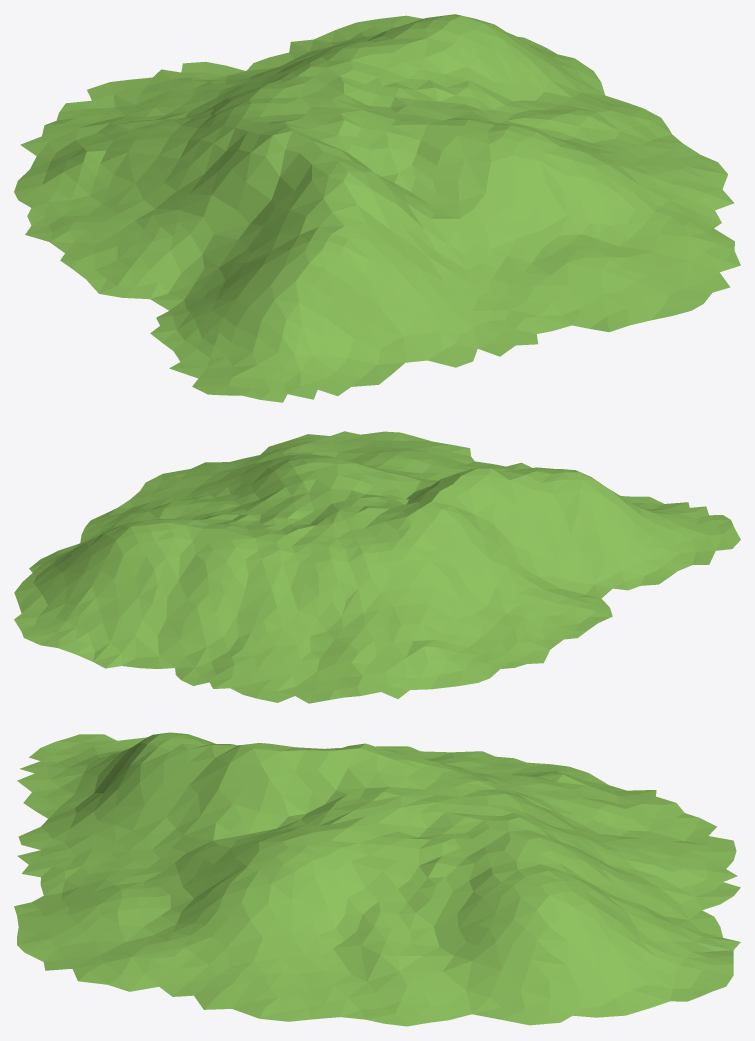
Rendered from MT_Mountain_L_a_17.fbx.
3 views of the same model, one above another, from view 1: azimuth 30°, elevation 25°; view 2: azimuth 150°, elevation 25°; view 3: azimuth 270°, elevation 25° (orthographic). The views are drawn at different scales.
Visible parts, largest first — view 1: MT_Mountain_L_a_17; view 2: MT_Mountain_L_a_17; view 3: MT_Mountain_L_a_17.
Boxes of the visible parts, left/top/right/bottom form: MT_Mountain_L_a_17: left=14, top=14, right=740, bottom=402; MT_Mountain_L_a_17: left=14, top=431, right=740, bottom=703; MT_Mountain_L_a_17: left=14, top=732, right=740, bottom=1026.
Size of the model in its own units: 9102 by 1491 by 9609.
